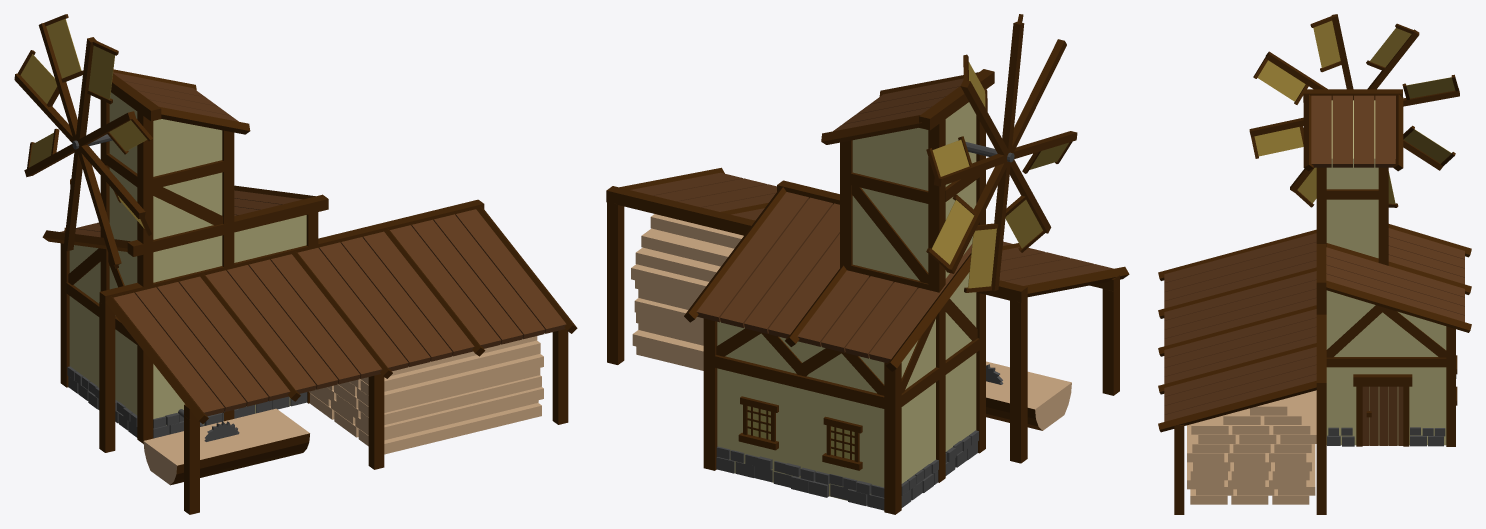
The model's file is Sawmill.fbx.
The picture shows the model from 3 angles, left to right: view 1: azimuth 30°, elevation 25°; view 2: azimuth 150°, elevation 25°; view 3: azimuth 270°, elevation 25°; orthographic projection. The views are drawn at different scales.
Parts seen in each view (by area): view 1: Building, Mill, Wood 2, Wood 3, Wood 1, Wood 4; view 2: Building, Mill, Wood 5, Wood 1, Wood 4, Wood 3, Wood 2; view 3: Building, Mill, Wood 5, Wood 4, Wood 3, Wood 1, Wood 2.
Boxes of the visible parts, x1,y1,x2,y2 form: Building: [42, 69, 577, 514]; Mill: [14, 14, 152, 268]; Wood 2: [316, 375, 543, 437]; Wood 3: [337, 354, 543, 412]; Wood 1: [309, 389, 541, 454]; Wood 4: [359, 336, 540, 391]; Building: [606, 69, 1129, 514]; Mill: [926, 14, 1077, 292]; Wood 5: [635, 214, 743, 281]; Wood 1: [632, 330, 703, 370]; Wood 4: [631, 264, 708, 302]; Wood 3: [634, 289, 703, 328]; Wood 2: [636, 312, 703, 345]; Building: [1158, 89, 1471, 514]; Mill: [1249, 14, 1459, 207]; Wood 5: [1191, 392, 1310, 434]; Wood 4: [1192, 390, 1316, 452]; Wood 3: [1187, 424, 1311, 471]; Wood 1: [1190, 444, 1315, 504]; Wood 2: [1187, 462, 1309, 489].
Bounding box in the file's own units: 1216 × 1222 × 1013.
Materials: 1 (1 with a texture image).
